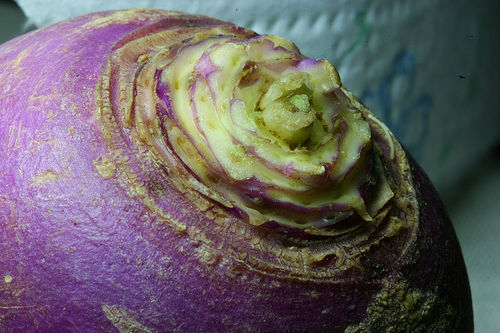turnip: (0, 8, 477, 332)
